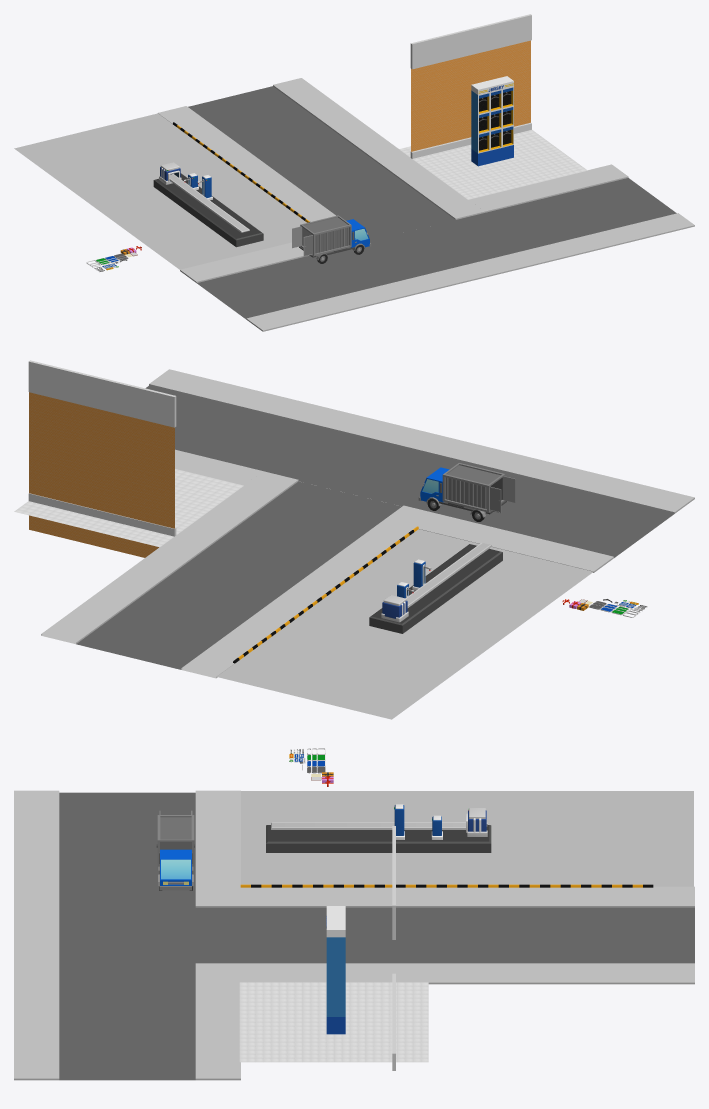
The model's file is Factory Scene.fbx.
3 renders of one model, top to bottom at view 1: azimuth 30°, elevation 25°; view 2: azimuth 150°, elevation 25°; view 3: azimuth 270°, elevation 25°, orthographic. The views are drawn at different scales.
Visible parts, largest first — view 1: Road, Floor, Wall, Floor White, Showcase, Wall.Up, Truck, Base, Belt, Wall.Down, Divider; view 2: Road, Floor, Wall, Wall.Up, Floor White, Truck, Base, Wall.Down, Belt, Divider, M; view 3: Road, Floor, Floor White, Base, Truck, Showcase, Divider, Belt, M.
Part boxes in pixels (x1=…): Road: x1=158, y1=78, x2=694, y2=331; Floor: x1=14, y1=113, x2=306, y2=269; Wall: x1=411, y1=40, x2=530, y2=151; Floor White: x1=399, y1=130, x2=587, y2=199; Showcase: x1=471, y1=76, x2=513, y2=166; Wall.Up: x1=410, y1=14, x2=531, y2=69; Truck: x1=299, y1=215, x2=371, y2=263; Base: x1=153, y1=173, x2=263, y2=247; Belt: x1=169, y1=174, x2=249, y2=232; Wall.Down: x1=410, y1=122, x2=531, y2=158; Divider: x1=173, y1=122, x2=309, y2=222; Road: x1=41, y1=369, x2=694, y2=678; Floor: x1=217, y1=529, x2=593, y2=719; Wall: x1=29, y1=392, x2=174, y2=557; Wall.Up: x1=28, y1=360, x2=176, y2=427; Floor White: x1=14, y1=469, x2=243, y2=547; Truck: x1=418, y1=463, x2=506, y2=521; Base: x1=369, y1=544, x2=502, y2=633; Wall.Down: x1=28, y1=493, x2=176, y2=536; Belt: x1=405, y1=542, x2=491, y2=607; Divider: x1=233, y1=526, x2=418, y2=663; M: x1=381, y1=595, x2=408, y2=622; Road: x1=14, y1=790, x2=694, y2=1080; Floor: x1=241, y1=791, x2=693, y2=886; Floor White: x1=239, y1=982, x2=428, y2=1062; Base: x1=266, y1=825, x2=491, y2=852; Truck: x1=156, y1=815, x2=194, y2=890; Showcase: x1=326, y1=906, x2=345, y2=1034; Divider: x1=240, y1=884, x2=653, y2=887; Belt: x1=271, y1=822, x2=465, y2=829; M: x1=466, y1=808, x2=487, y2=836.
Bounding box in the file's own units: 4126 × 1102 × 3600.
